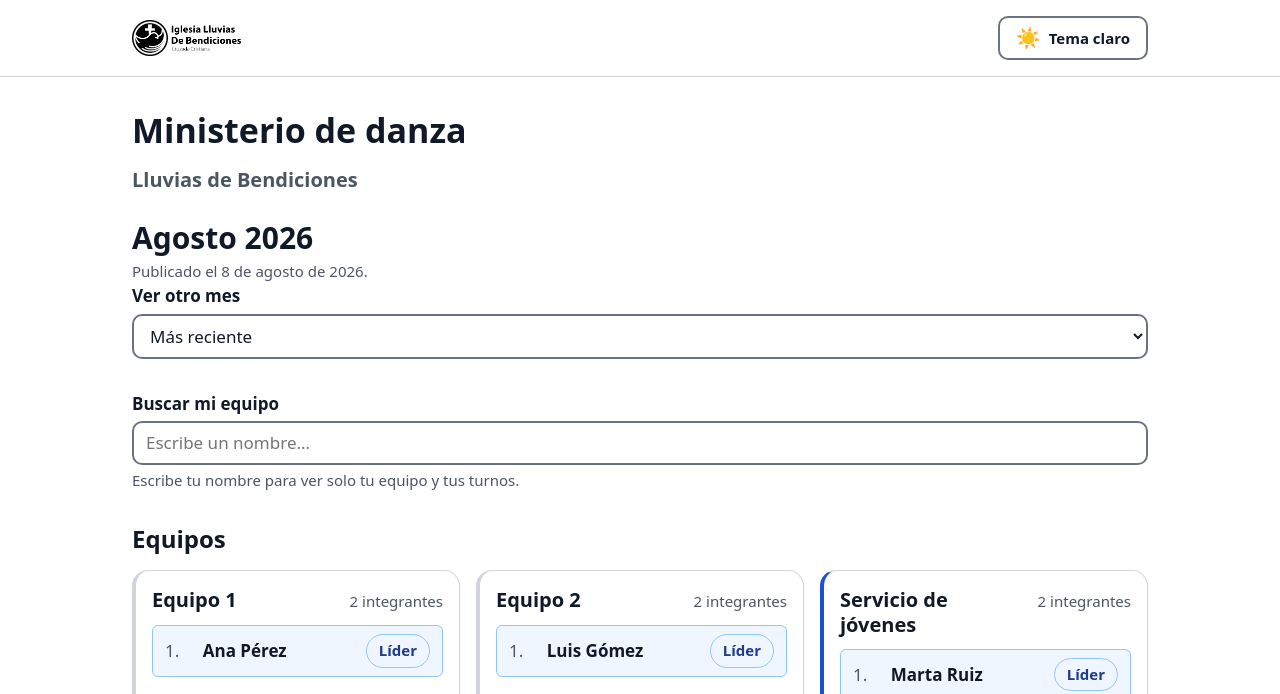
PublicSchedule (ruta pública, sin login) › el selector de historial permite ver un mes anterior (hasta 1 año) y resetea el filtro de persona activo
The width and height of the screenshot is (1280, 694).
Expected: the heading "Agosto 2026" is shown, x1=132 y1=216 x2=313 y2=258
// Activar un filtro de persona antes de cambiar de mes.
Click the dropdown labelled "Buscar mi equipo" at (640, 443), box x1=132 y1=421 x2=1148 y2=465
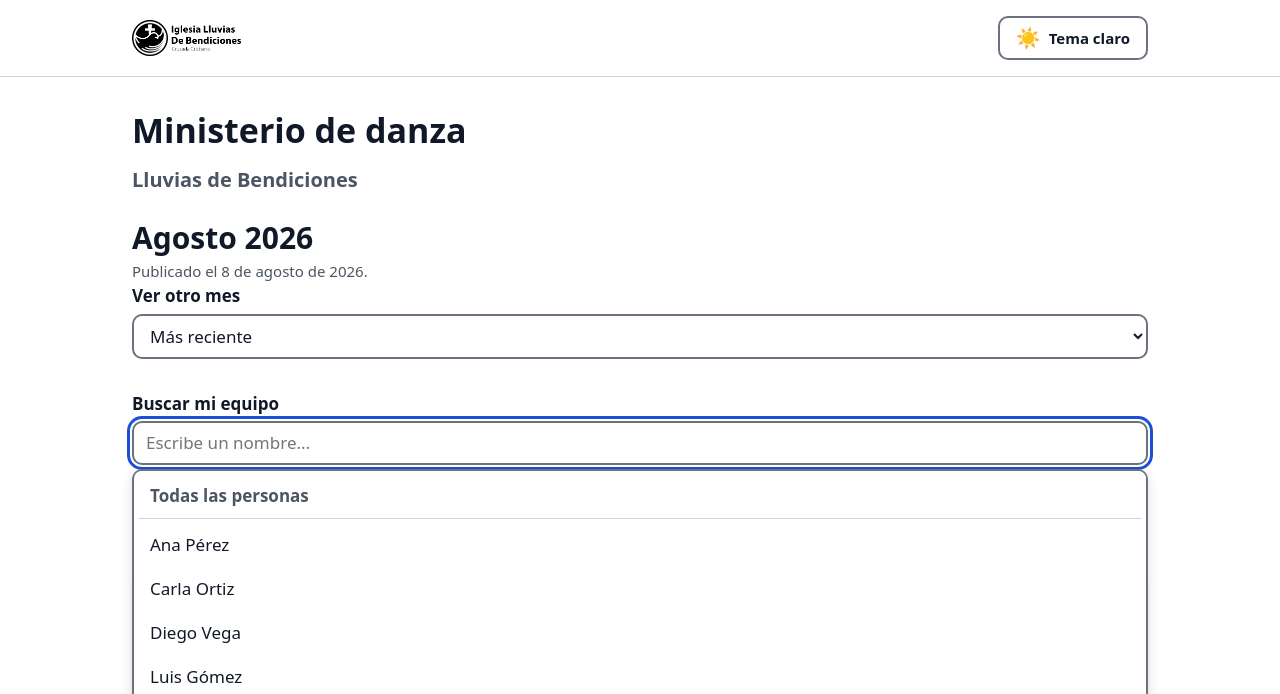
Click the option "Ana Pérez" at (190, 544), box x1=150 y1=533 x2=229 y2=556
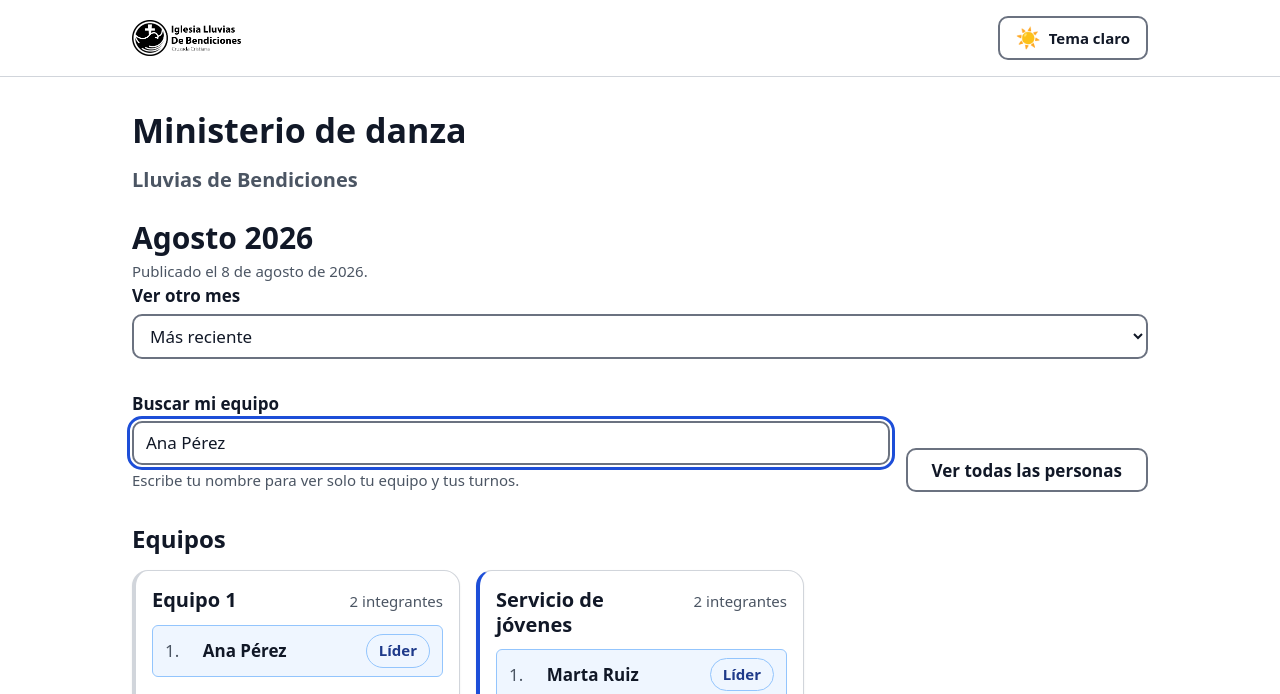
Expected: the heading "Equipo 2" is gone
Select "Agosto 2025" in the dropdown labelled "Ver otro mes" at (640, 336), box x1=132 y1=314 x2=1148 y2=359
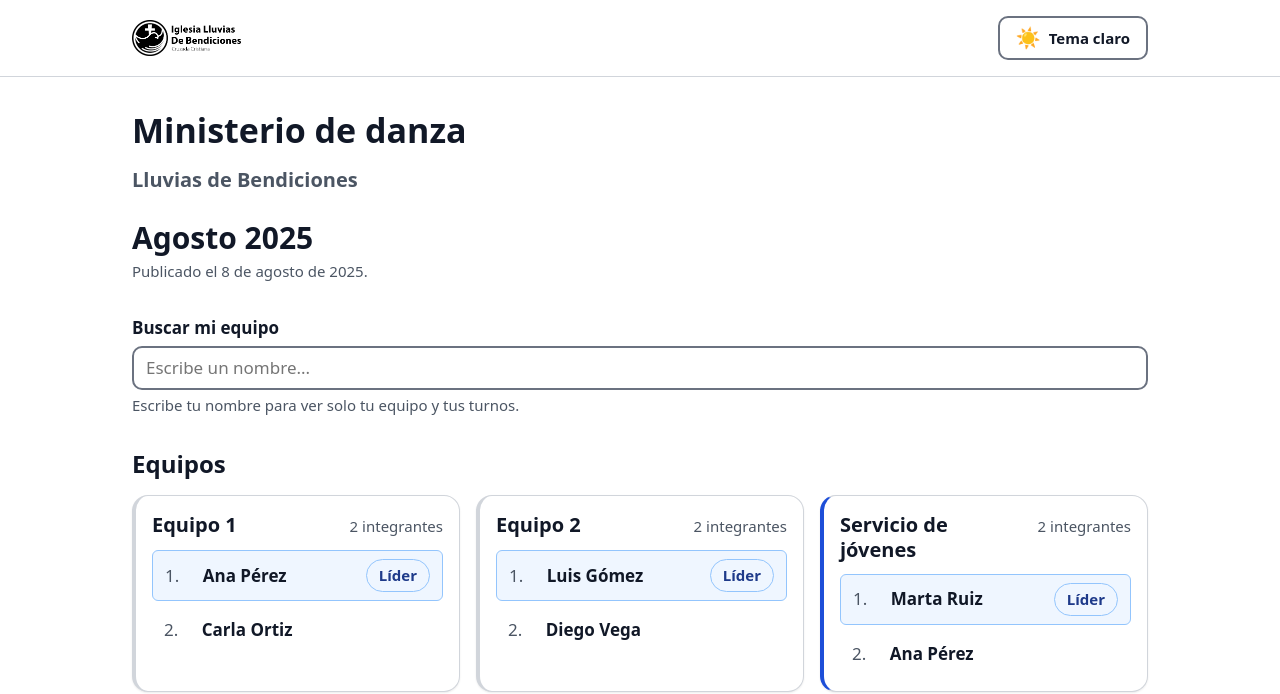
Expected: the heading "Agosto 2025" is shown, x1=132 y1=216 x2=313 y2=258
Expected: the heading "Equipo 2" is shown, x1=496 y1=512 x2=581 y2=537
